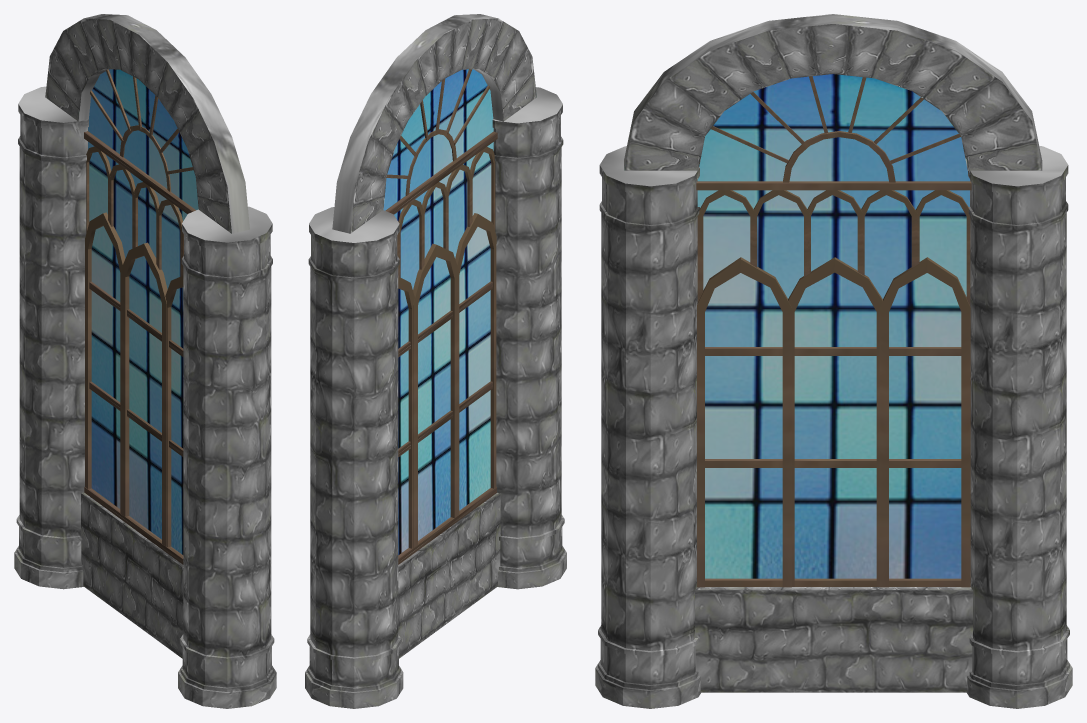
The model's file is window.fbx.
3 views of the same model, side by side, from view 1: azimuth 30°, elevation 25°; view 2: azimuth 150°, elevation 25°; view 3: azimuth 270°, elevation 25° (orthographic). The views are drawn at different scales.
Parts seen in each view (by area): view 1: polySurface506, pCube852; view 2: polySurface506, pCube852; view 3: polySurface506, pCube852.
Part boxes in pixels (bbox=[...]): polySurface506: bbox=[14, 14, 276, 708]; pCube852: bbox=[88, 69, 198, 554]; polySurface506: bbox=[305, 14, 566, 708]; pCube852: bbox=[383, 69, 493, 554]; polySurface506: bbox=[595, 14, 1072, 708]; pCube852: bbox=[697, 74, 969, 578].
Size of the model in its own units: 132 by 878 by 569.
1 material, 1 textured.
